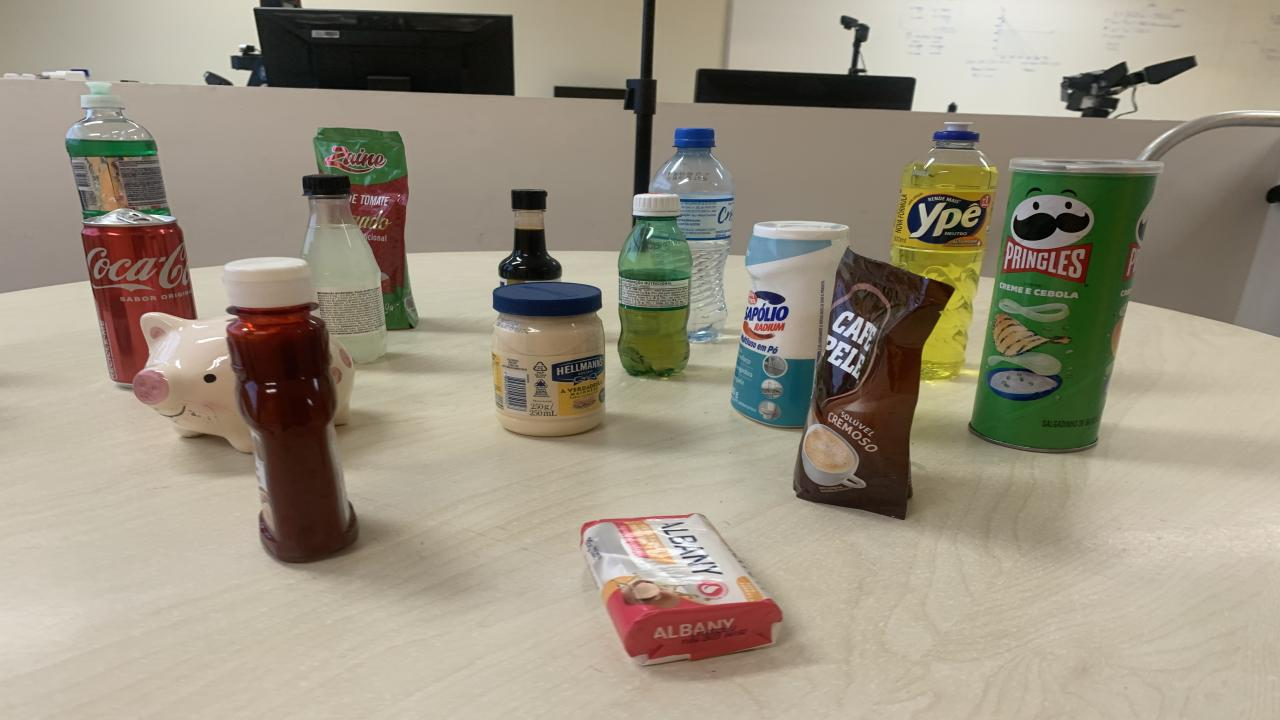Cleaner-Cleanup_Items: (730, 221, 848, 428)
Coffee-Pantry_Items: (795, 249, 952, 519)
Coke-Drinks: (82, 219, 198, 384), (82, 208, 175, 227)
Detergent-Cleanup_Items: (890, 122, 998, 379), (65, 82, 170, 219)
English_Sauce-Pantry_Items: (498, 189, 562, 285)
Guarana-Drinks: (618, 193, 692, 377)
Ketchup-Pantry_Items: (222, 257, 358, 562), (312, 128, 418, 330)
Mayonnaise-Pantry_Items: (492, 281, 605, 437)
Pig_Safe-Miscellaneous: (132, 313, 252, 452), (330, 339, 355, 426)
Pringles-Snacks: (970, 159, 1160, 452)
Soap-Cleanup_Items: (580, 514, 782, 666)
Soda-Drinks: (300, 172, 388, 364)
Water_Bottle-Drinks: (650, 129, 735, 341)
